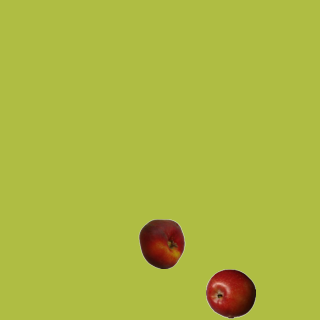Apple Braeburn: (205, 268, 255, 318)
Nectarine Flat: (136, 218, 186, 268)
